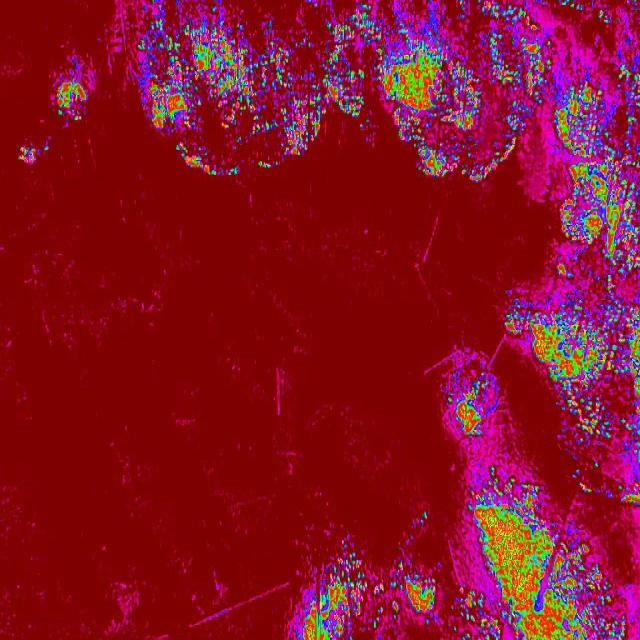fire: (380, 0, 640, 186), (133, 0, 324, 179), (458, 477, 544, 640), (505, 288, 640, 387), (555, 388, 640, 508), (560, 186, 640, 288), (289, 551, 374, 640), (325, 0, 381, 124), (545, 522, 597, 640), (444, 371, 503, 447), (46, 67, 96, 128), (597, 576, 640, 640), (396, 567, 444, 621)
